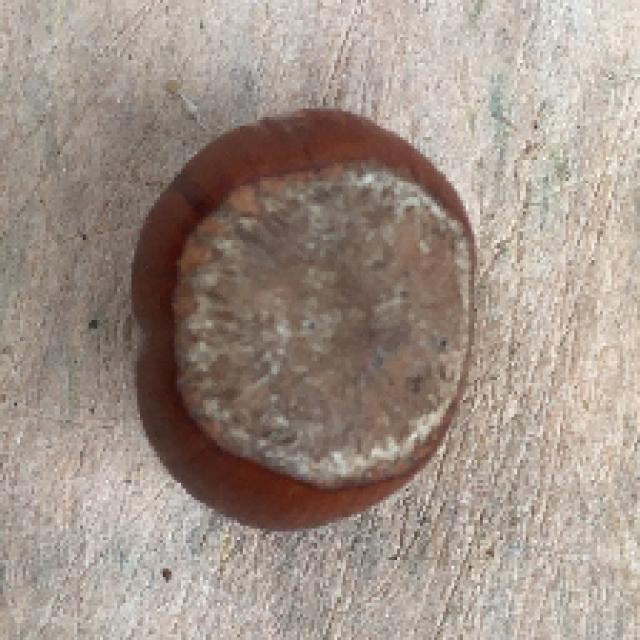qualityHazelnut: (125, 97, 482, 545)
